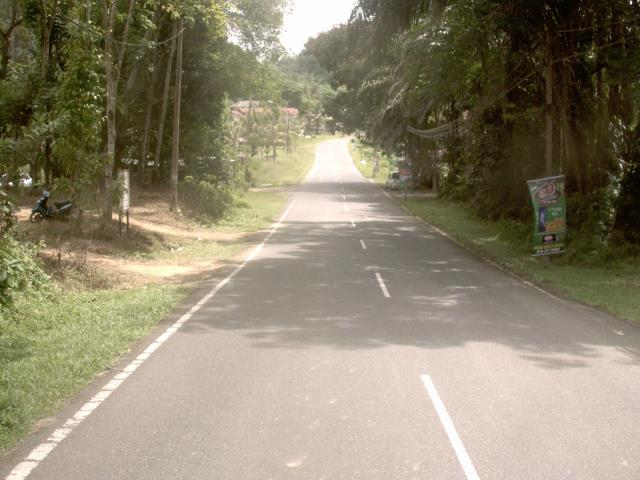ads_sign: (519, 168, 575, 267)
